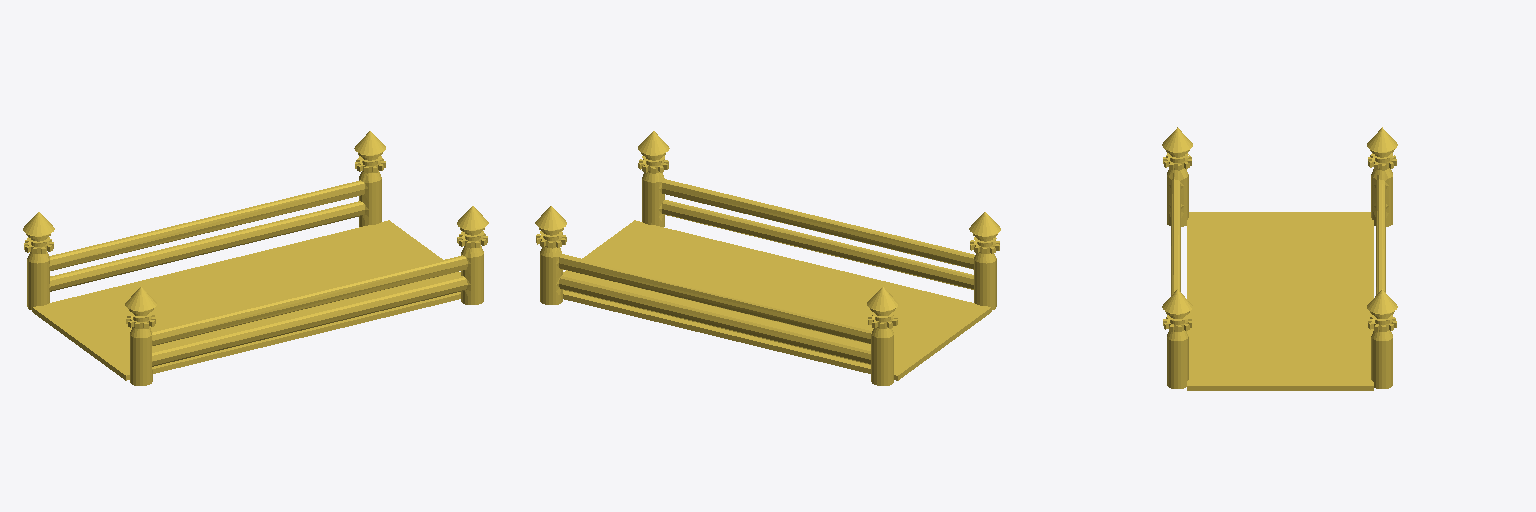
The model's file is Puente.obj.
The picture shows the model from 3 angles: view 1: azimuth 30°, elevation 25°; view 2: azimuth 150°, elevation 25°; view 3: azimuth 270°, elevation 25°; orthographic projection.
Parts seen in each view (by area): view 1: puentesito_pCylinder8; view 2: puentesito_pCylinder8; view 3: puentesito_pCylinder8.
Part boxes in pixels (x1,y1,x2,y2): puentesito_pCylinder8: (23,131,488,385); puentesito_pCylinder8: (535,131,1000,385); puentesito_pCylinder8: (1162,127,1397,390).
Size of the model in its own units: 160 by 40.45 by 90.61.